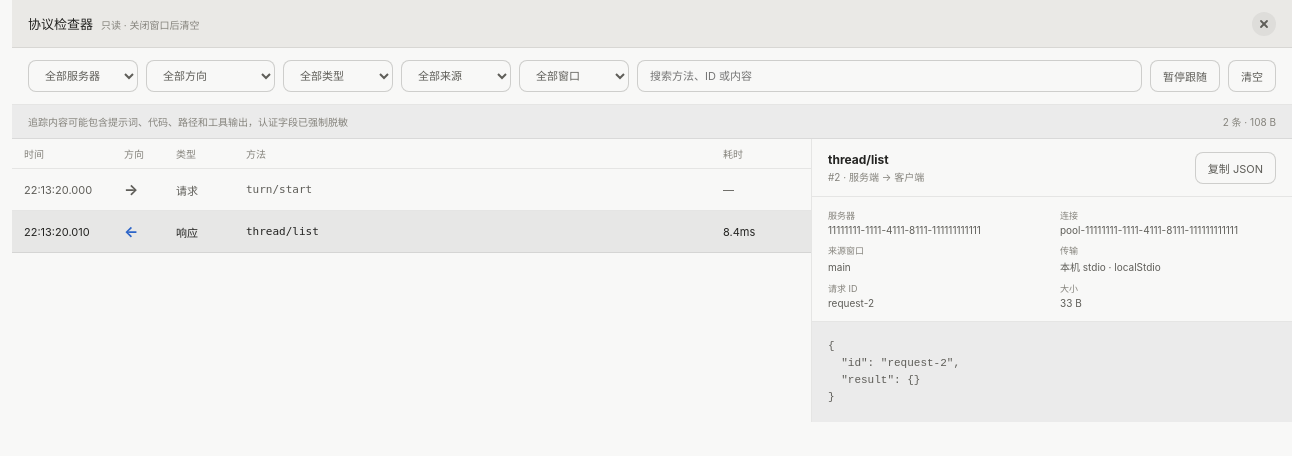
Test: ProtocolDebugWindow › 切换消息后忽略上一条消息延迟返回的高亮结果
Click the button "22:13:20.000 → 请求 turn/start —" at (58, 190), box [12,169,811,211]
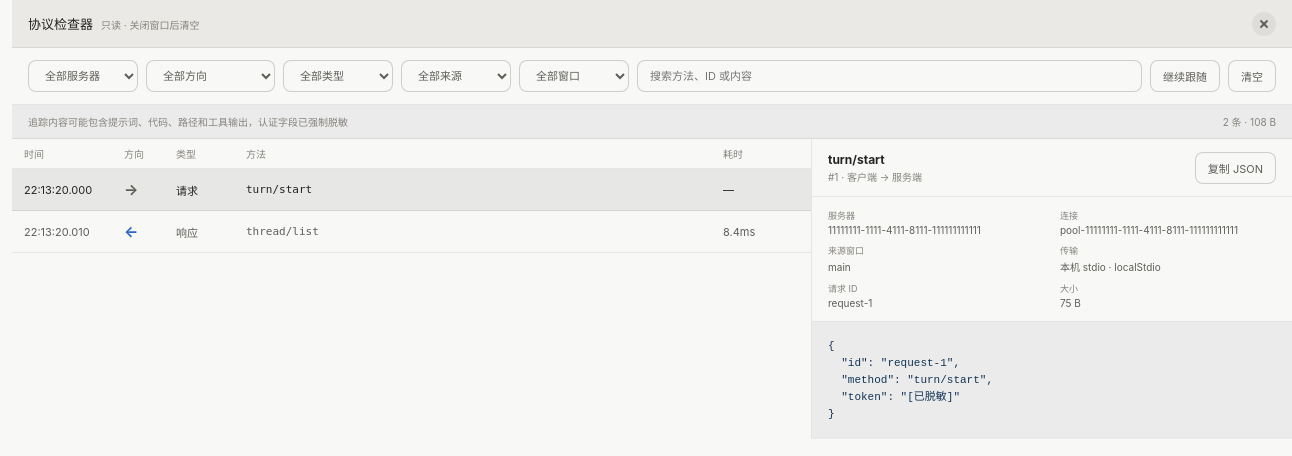
Expected: the text "{" is shown, [828,340,835,352]
Result: the element that starts with "\"id\": \"request-1\"," shows "turn/start" at [828,374,993,386]
